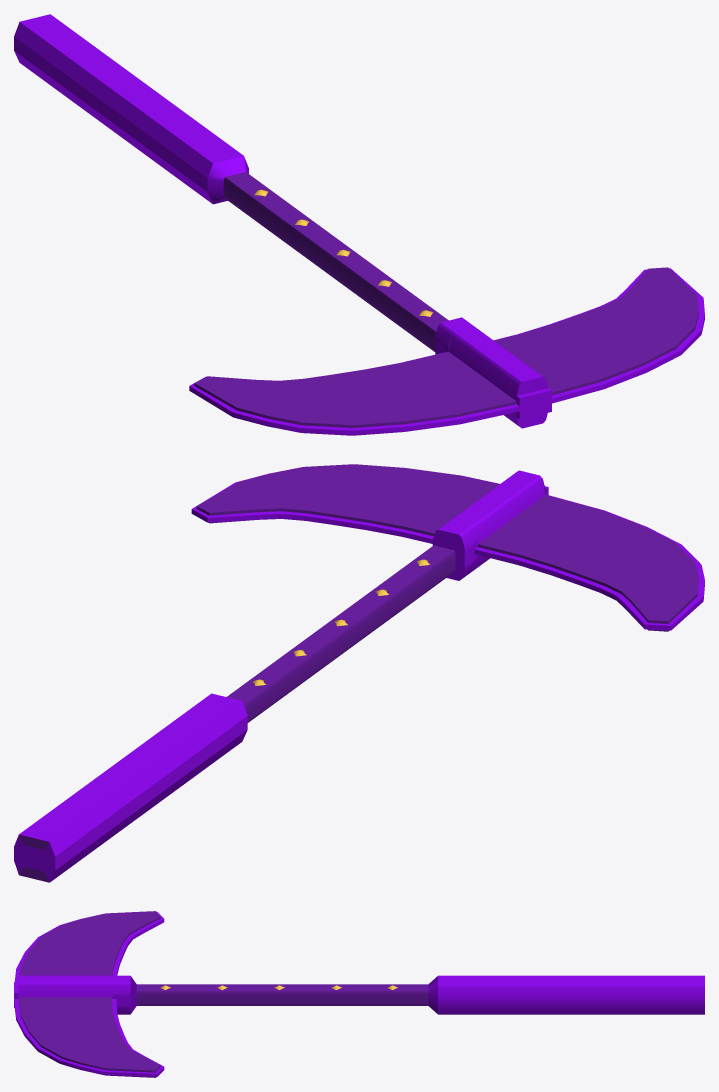
File: Axe.fbx
3 views of the same model, one above another, from view 1: azimuth 30°, elevation 25°; view 2: azimuth 150°, elevation 25°; view 3: azimuth 270°, elevation 25° (orthographic). The views are drawn at different scales.
Visible parts, largest first — view 1: Axe; view 2: Axe; view 3: Axe.
Boxes of the visible parts, bbox=[...] form: Axe: bbox=[14, 14, 704, 435]; Axe: bbox=[14, 464, 704, 882]; Axe: bbox=[14, 911, 704, 1077].
Bounding box in the file's own units: 914 × 84.45 × 1647.
